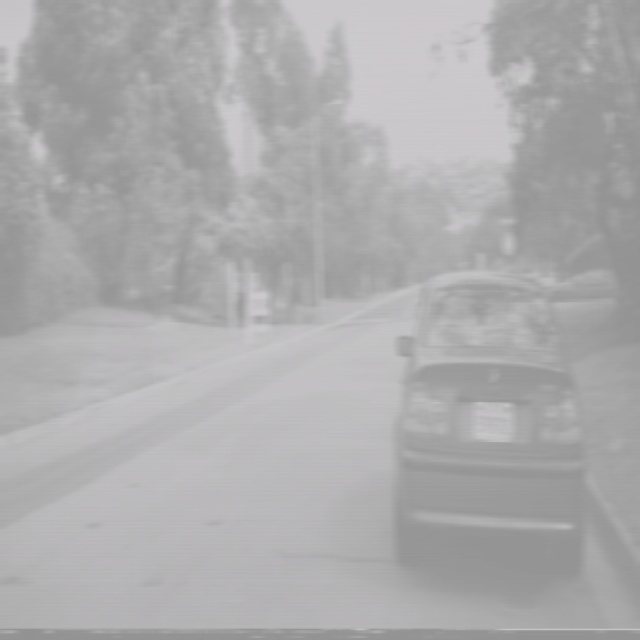stop: (500, 228, 515, 256)
